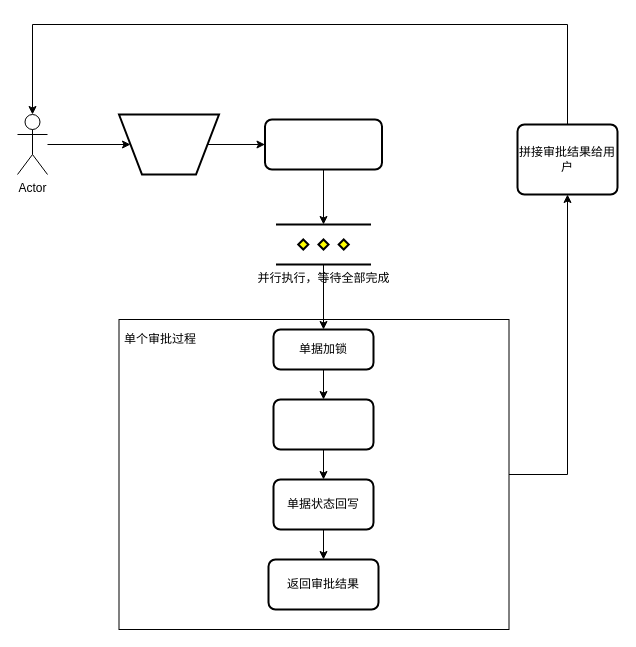
The diagram is 636 pixels wide and 647 high, and some of its shapes have lost their labels. The centre of each missing label's shape, as x and y in pixels:
创建所选数据数量的固定大小的线程池: (323,144)
批量审批: (169,144)
调用审批系统接口: (323,424)
